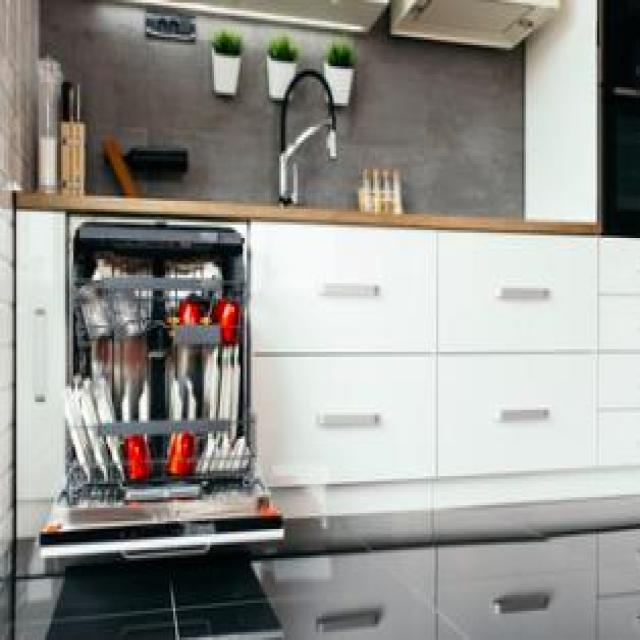dishwasher: (35, 217, 281, 558)
